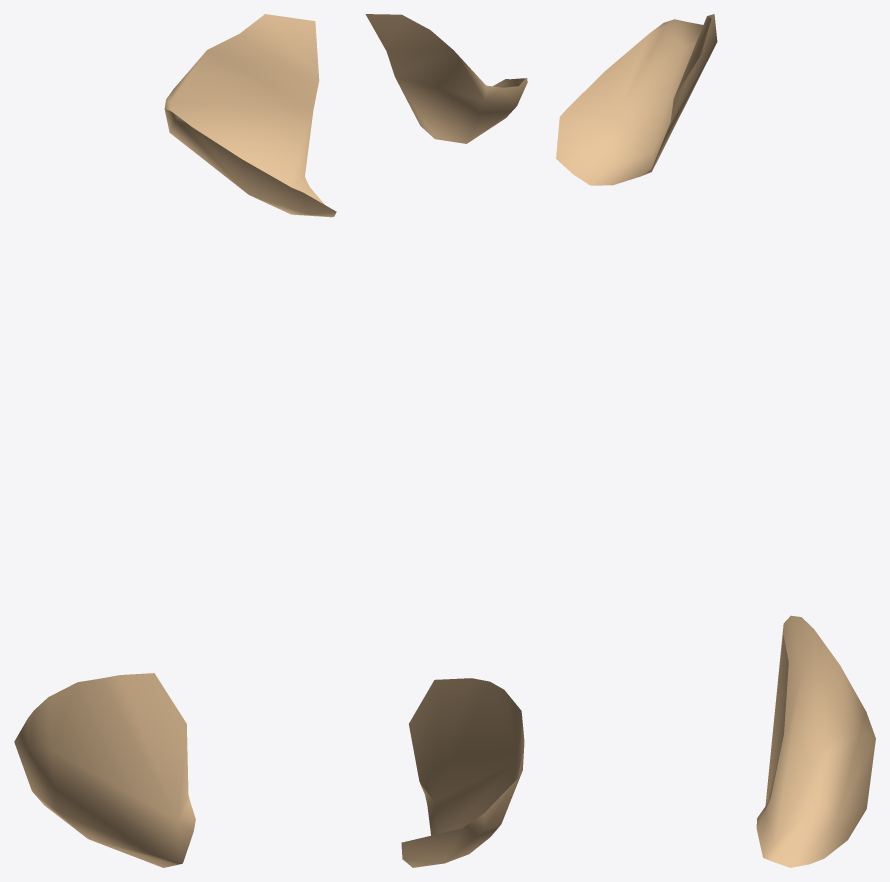
File: Cervical_vertebra-Labels.001_Cone.011.glb
3 views of the same model, side by side, from view 1: azimuth 30°, elevation 25°; view 2: azimuth 150°, elevation 25°; view 3: azimuth 270°, elevation 25° (orthographic). The views are drawn at different scales.
Visible parts, largest first — view 1: Cervical_vertebra-Labels.001_Cone.011; view 2: Cervical_vertebra-Labels.001_Cone.011; view 3: Cervical_vertebra-Labels.001_Cone.011.
Part boxes in pixels (x1,y1,x2,y2): Cervical_vertebra-Labels.001_Cone.011: (14,14,336,867); Cervical_vertebra-Labels.001_Cone.011: (365,14,527,867); Cervical_vertebra-Labels.001_Cone.011: (556,14,875,867).
Bounding box in the file's own units: 0.00554 × 0.0197 × 0.0065.
